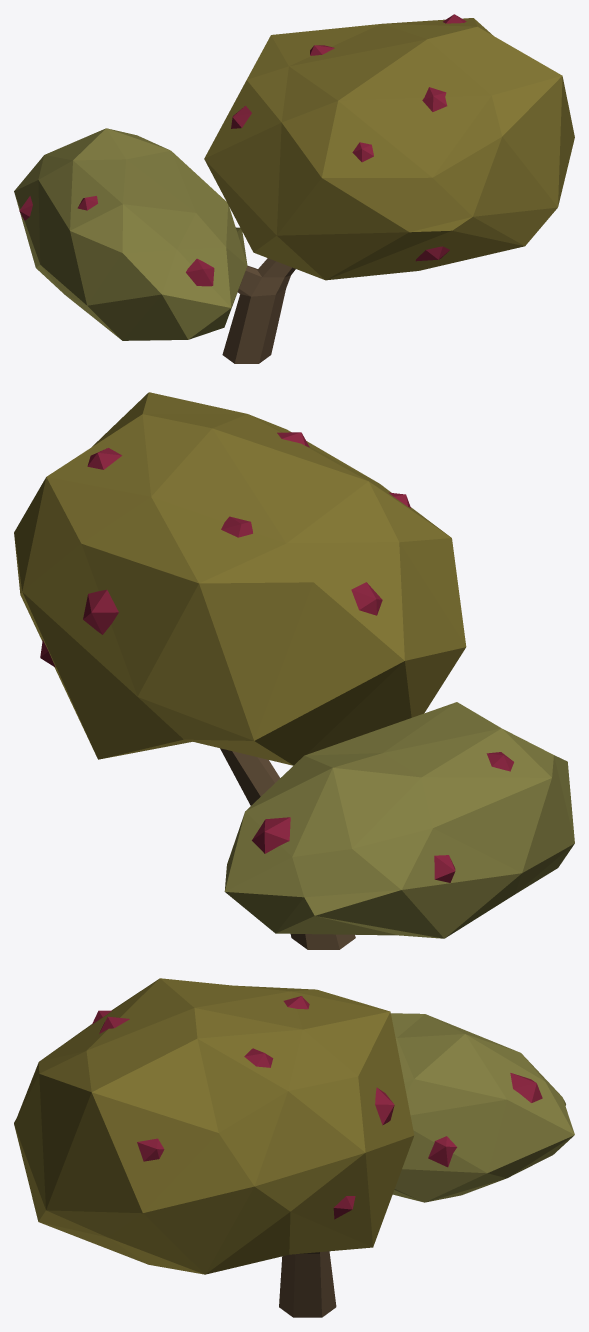
The model's file is enchantedforest_bush_2.fbx.
3 views of the same model, one above another, from view 1: azimuth 30°, elevation 25°; view 2: azimuth 150°, elevation 25°; view 3: azimuth 270°, elevation 25° (orthographic). The views are drawn at different scales.
Parts seen in each view (by area): view 1: Cylinder.003, Icosphere.003; view 2: Cylinder.003, Icosphere.003; view 3: Cylinder.003, Icosphere.003.
Part boxes in pixels (x1=…): Cylinder.003: x1=14, y1=18, x2=574, y2=363; Icosphere.003: x1=19, y1=14, x2=466, y2=286; Cylinder.003: x1=14, y1=392, x2=574, y2=949; Icosphere.003: x1=40, y1=432, x2=513, y2=882; Cylinder.003: x1=14, y1=978, x2=574, y2=1317; Icosphere.003: x1=92, y1=996, x2=542, y2=1219.
Size of the model in its own units: 2.26 by 1.58 by 2.14.
